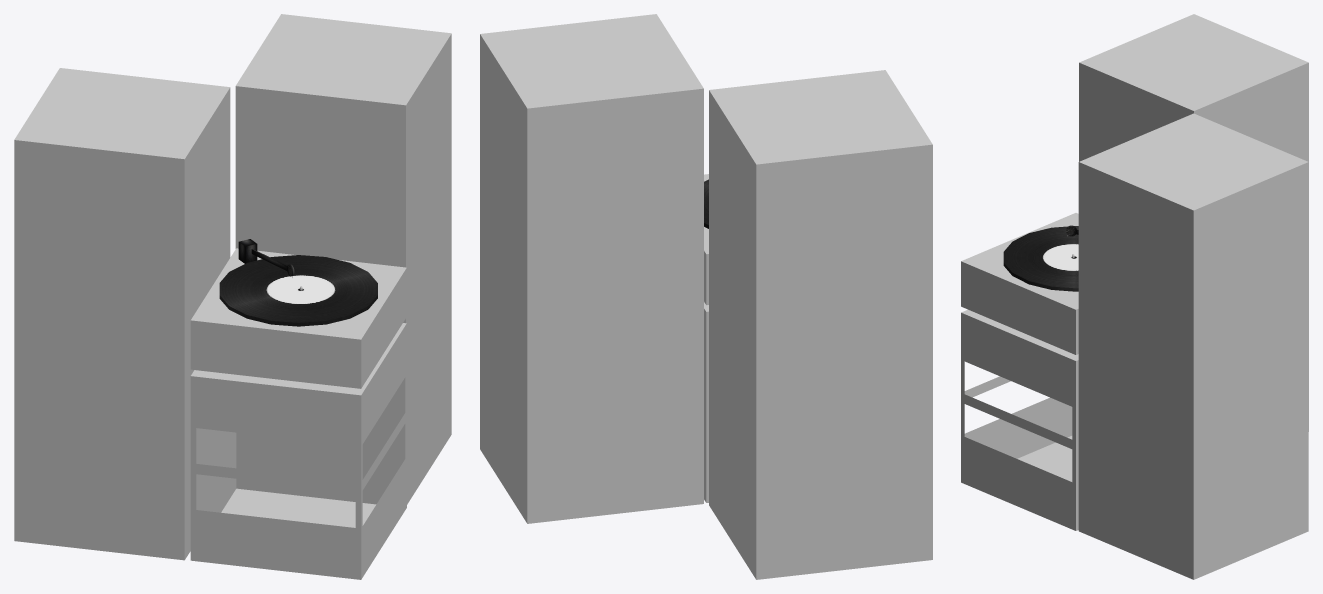
Rendered from MenuModelPlaceHolder.FBX.
3 renders of one model, left to right at view 1: azimuth 30°, elevation 25°; view 2: azimuth 150°, elevation 25°; view 3: azimuth 270°, elevation 25°, orthographic. The views are drawn at different scales.
Parts seen in each view (by area): view 1: Box003, Box001, Box002, Box004, Cylinder001; view 2: Box001, Box003, Box002; view 3: Box001, Box003, Box002, Box004, Cylinder001.
Part boxes in pixels (x1,y1,x2,y2): Box003: [14, 68, 230, 560]; Box001: [235, 14, 451, 504]; Box002: [190, 323, 406, 579]; Box004: [190, 248, 406, 388]; Cylinder001: [219, 255, 377, 326]; Box001: [480, 14, 703, 523]; Box003: [709, 70, 932, 579]; Box002: [704, 302, 708, 502]; Box001: [1078, 113, 1308, 579]; Box003: [1079, 14, 1308, 431]; Box002: [961, 309, 1078, 530]; Box004: [961, 213, 1078, 354]; Cylinder001: [1003, 226, 1078, 291].
Bounding box in the file's own units: 74.39 × 65.2 × 55.65.
Materials: 4 (4 with a texture image).
